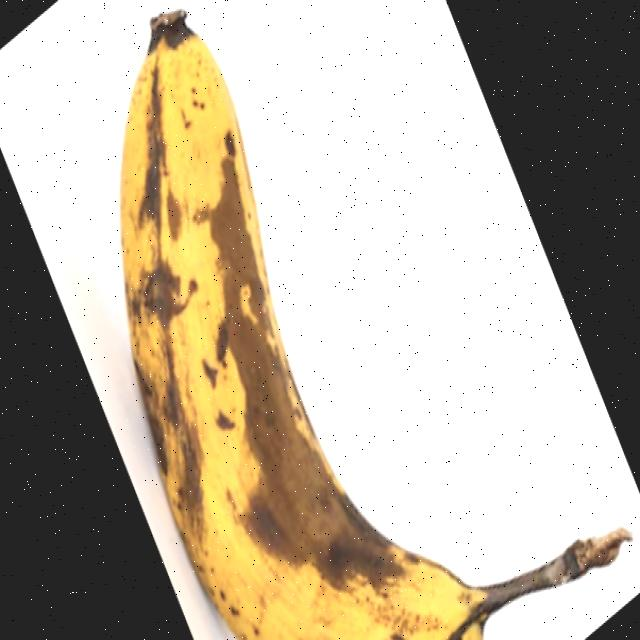overripe: (114, 7, 520, 640)
